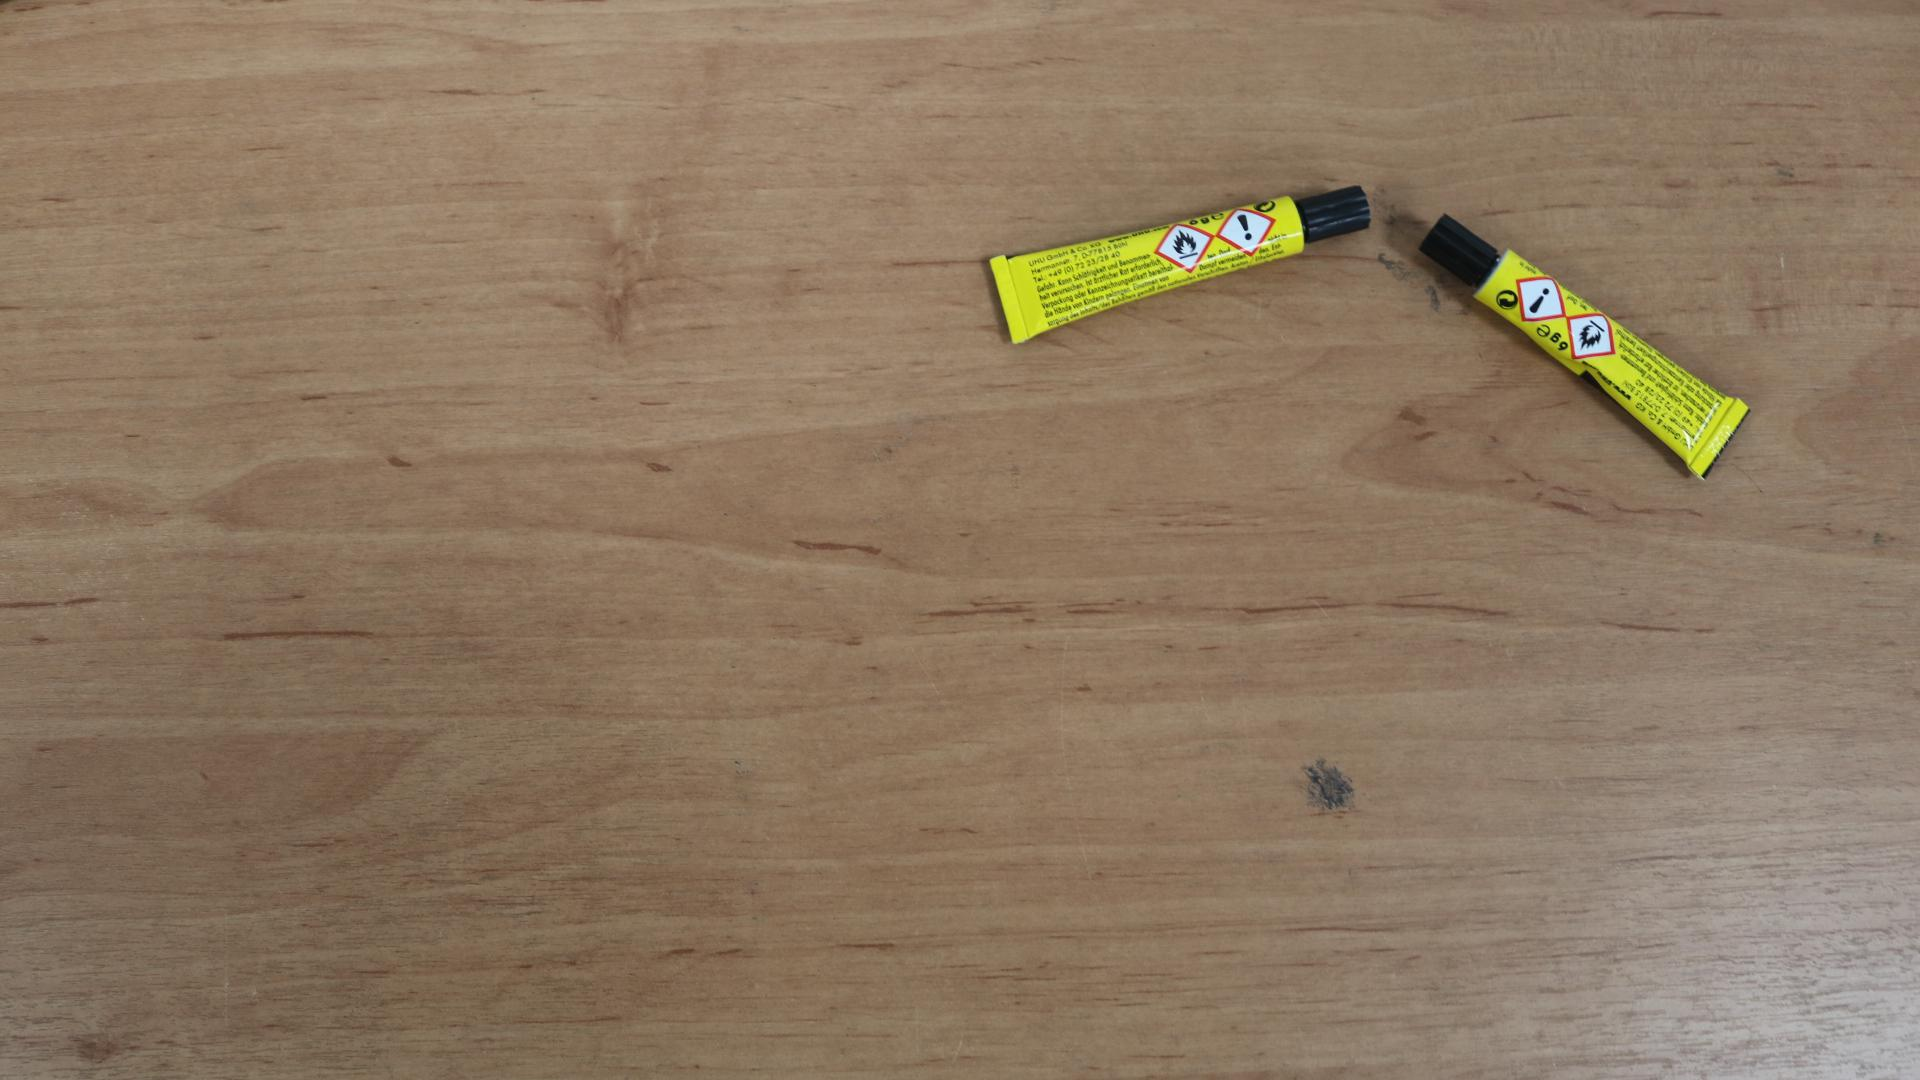Head: (1333, 208, 1339, 214), (1457, 246, 1463, 251)
Tail: (1006, 295, 1012, 301), (1717, 437, 1722, 442)
Tube: (1417, 212, 1752, 482), (988, 182, 1371, 346)
